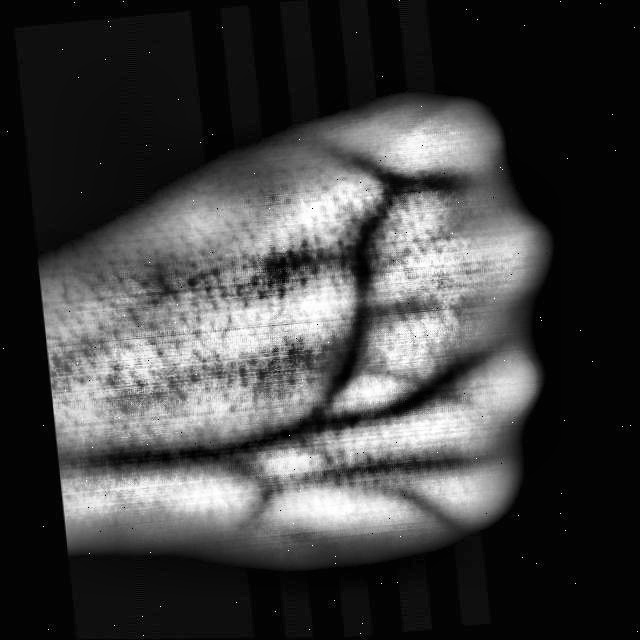Vein: (68, 435, 251, 475)
